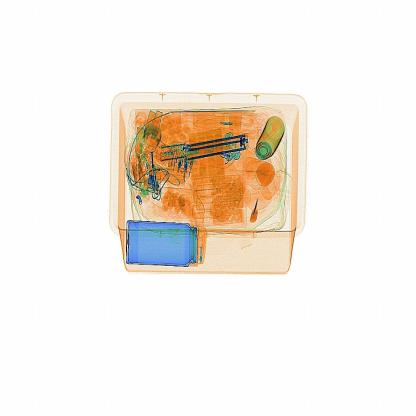wrench: (241, 197, 268, 228)
